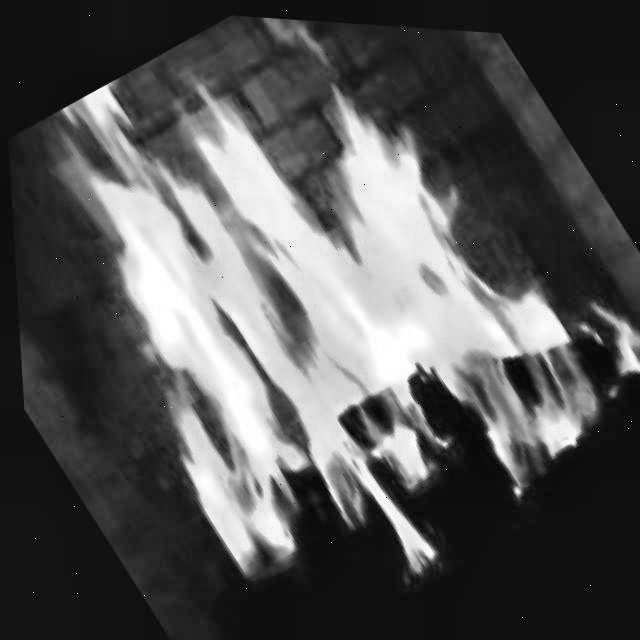Fire: (18, 1, 600, 570)
